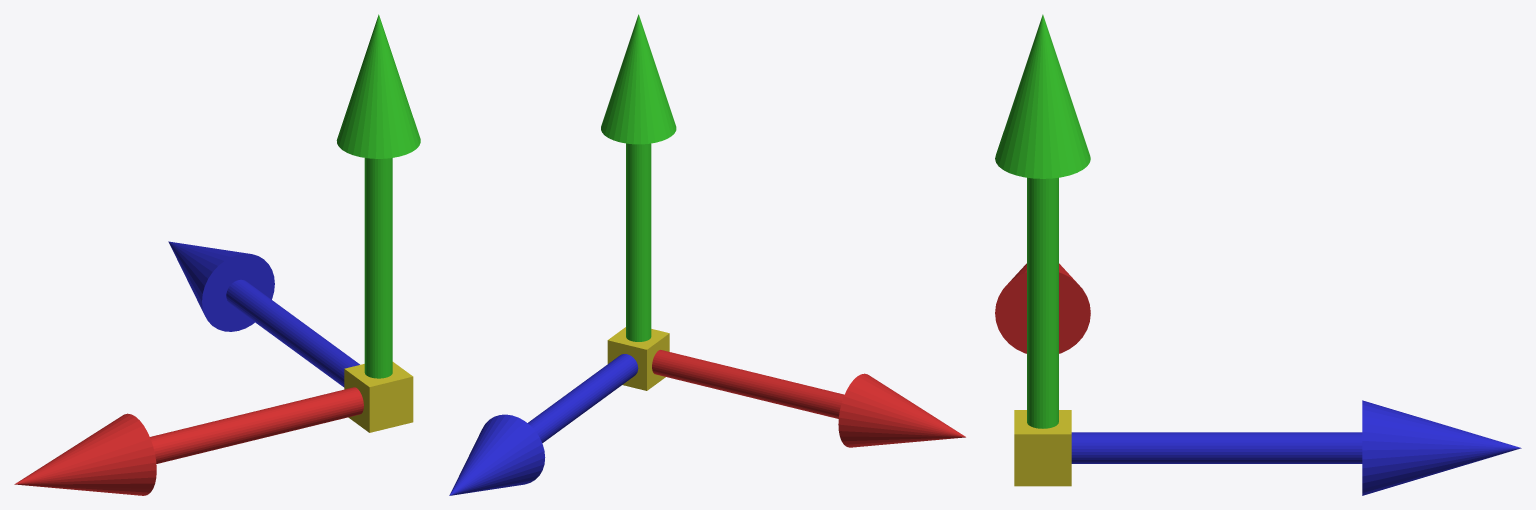
The model's file is gizmo.fbx.
3 renders of one model, left to right at view 1: azimuth 30°, elevation 25°; view 2: azimuth 150°, elevation 25°; view 3: azimuth 270°, elevation 25°, orthographic. The views are drawn at different scales.
Visible parts, largest first — view 1: Y, X, Z, Union; view 2: Y, X, Z, Union; view 3: Z, Y, X, Union.
Part boxes in pixels (x1=…): Y: x1=336, y1=14, x2=420, y2=378; X: x1=14, y1=387, x2=363, y2=495; Z: x1=168, y1=241, x2=359, y2=387; Union: x1=344, y1=362, x2=413, y2=432; Y: x1=601, y1=14, x2=676, y2=341; X: x1=652, y1=350, x2=965, y2=447; Z: x1=449, y1=354, x2=638, y2=495; Union: x1=607, y1=327, x2=669, y2=390; Z: x1=1071, y1=400, x2=1521, y2=495; Y: x1=995, y1=14, x2=1090, y2=428; X: x1=995, y1=263, x2=1090, y2=353; Union: x1=1014, y1=410, x2=1071, y2=486.
Size of the model in its own units: 165 by 165 by 165.
